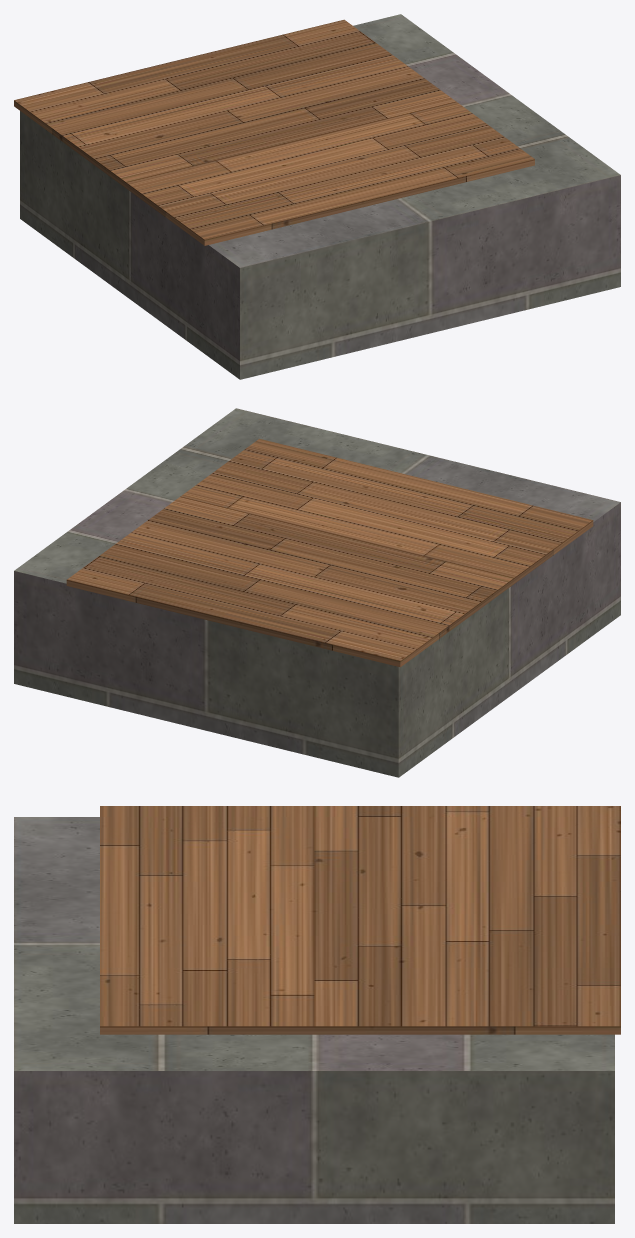
Rendered from floor_floor_g_e0101.glb.
3 renders of one model, top to bottom at view 1: azimuth 30°, elevation 25°; view 2: azimuth 150°, elevation 25°; view 3: azimuth 270°, elevation 25°, orthographic. The views are drawn at different scales.
Visible parts, largest first — view 1: floor_floor_g_e0101_plinth, floor_floor_g_e0101_floor; view 2: floor_floor_g_e0101_plinth, floor_floor_g_e0101_floor; view 3: floor_floor_g_e0101_plinth, floor_floor_g_e0101_floor.
Boxes of the visible parts, box(x1,y1,x2,y2) form: floor_floor_g_e0101_plinth: box(20, 14, 620, 379); floor_floor_g_e0101_floor: box(14, 19, 534, 245); floor_floor_g_e0101_plinth: box(14, 408, 620, 777); floor_floor_g_e0101_floor: box(66, 438, 593, 667); floor_floor_g_e0101_plinth: box(14, 817, 614, 1223); floor_floor_g_e0101_floor: box(100, 806, 620, 1034).
Bounding box in the file's own units: 1.98 × 0.58 × 1.98.
2 materials, 2 textured.
